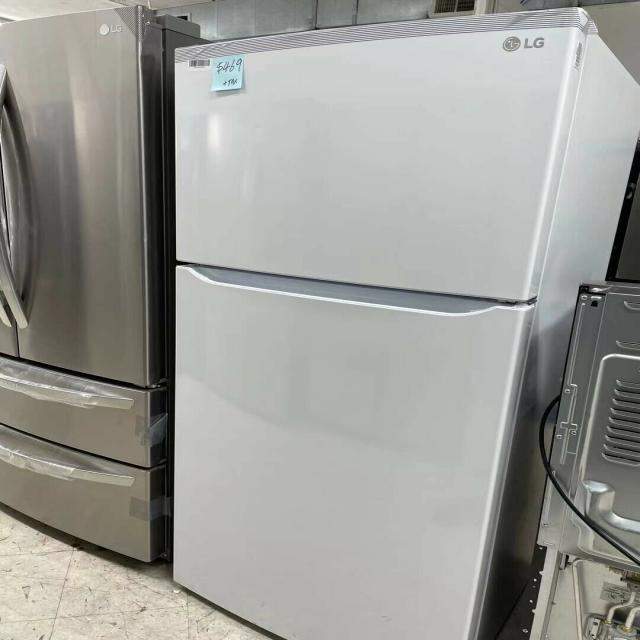refrigerator: (172, 7, 589, 640)
